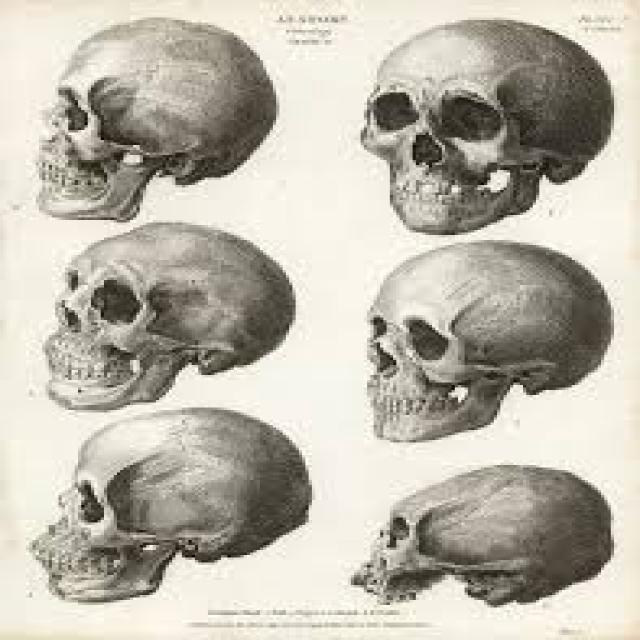skull: (30, 400, 327, 622), (339, 237, 615, 448)
